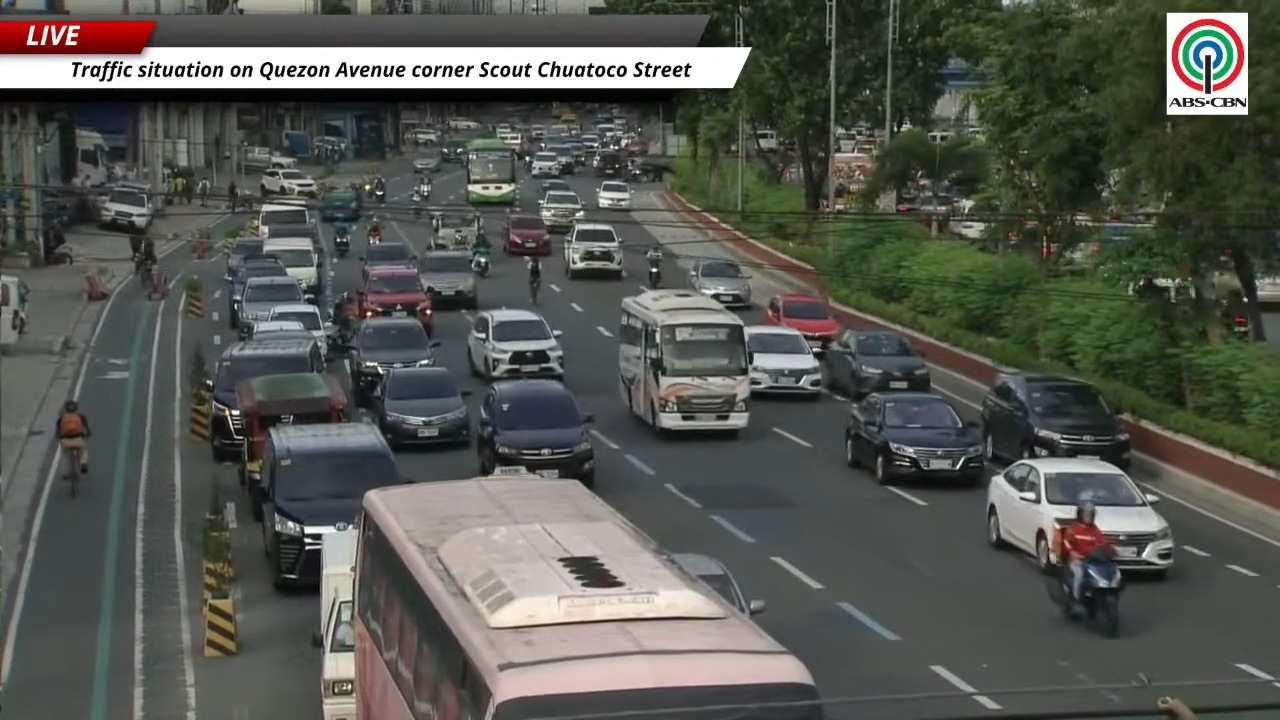bus: (356, 468, 822, 719), (618, 289, 749, 432), (466, 137, 518, 205)
car: (253, 423, 403, 589), (986, 458, 1174, 576), (205, 336, 324, 460), (981, 371, 1131, 469), (476, 379, 594, 487), (845, 393, 984, 484), (373, 367, 470, 446), (348, 317, 439, 400), (822, 330, 930, 399), (467, 308, 564, 379), (669, 553, 765, 614), (745, 325, 822, 399), (356, 267, 433, 333), (764, 293, 842, 350), (228, 256, 288, 328), (237, 275, 303, 338), (417, 250, 478, 309), (563, 221, 623, 279), (689, 258, 751, 306), (268, 303, 327, 353), (98, 187, 153, 232), (428, 208, 483, 250), (256, 197, 315, 236), (503, 213, 552, 256), (359, 239, 416, 274), (539, 192, 585, 231), (224, 237, 263, 280), (260, 168, 316, 196), (319, 187, 362, 222), (246, 320, 311, 339), (628, 156, 674, 181), (597, 181, 631, 209), (546, 143, 575, 175), (593, 150, 625, 177), (530, 150, 560, 177), (1256, 274, 1279, 303), (414, 151, 442, 174), (565, 139, 588, 167), (539, 179, 574, 197), (440, 139, 465, 163), (405, 128, 439, 145), (446, 117, 481, 130), (624, 138, 649, 155), (580, 133, 600, 149), (529, 124, 545, 138)
motorcycle: (1050, 546, 1122, 637), (471, 249, 491, 278), (334, 232, 349, 256), (648, 265, 661, 288), (412, 191, 422, 219), (367, 231, 381, 244), (374, 188, 384, 203), (364, 183, 373, 196)
truck: (312, 530, 357, 719), (75, 127, 109, 186)
